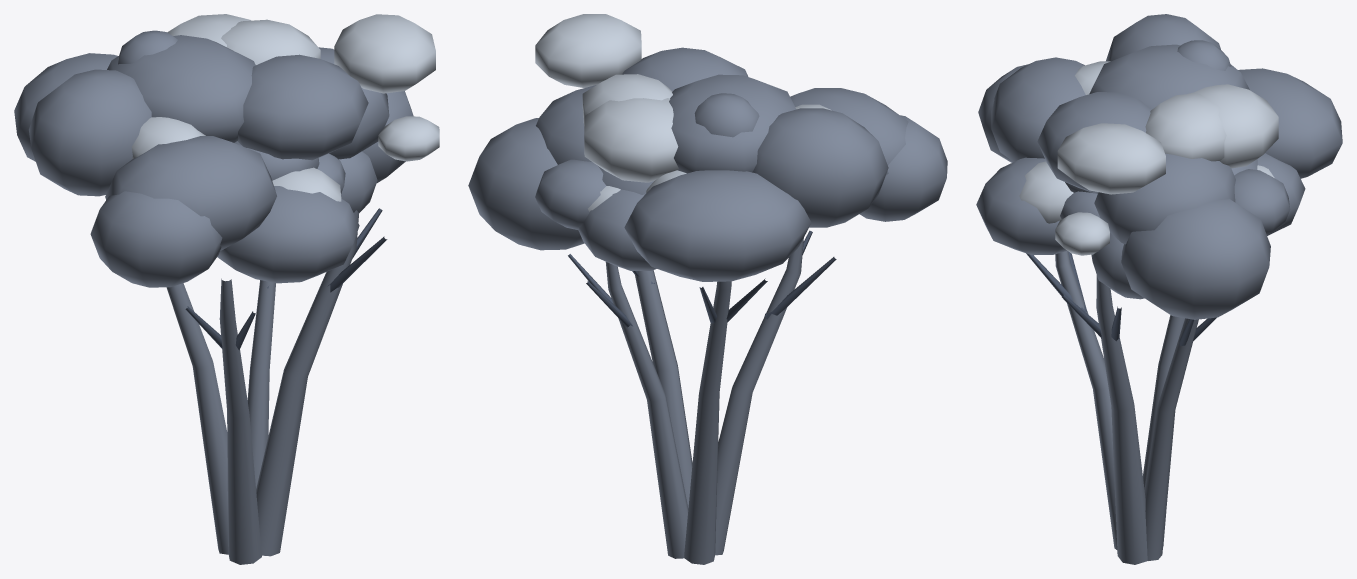
Rendered from 多干小乔木.glb.
3 renders of one model, left to right at view 1: azimuth 30°, elevation 25°; view 2: azimuth 150°, elevation 25°; view 3: azimuth 270°, elevation 25°, orthographic. The views are drawn at different scales.
Parts seen in each view (by area): view 1: garden-tree-multistem-leaf, garden-tree-multistem-trunk, garden-tree-multistem-light, garden-tree-multistem-branch; view 2: garden-tree-multistem-leaf, garden-tree-multistem-trunk, garden-tree-multistem-light, garden-tree-multistem-branch; view 3: garden-tree-multistem-leaf, garden-tree-multistem-light, garden-tree-multistem-trunk, garden-tree-multistem-branch.
Part boxes in pixels (x1,y1,x2,y2): garden-tree-multistem-leaf: (14,30,413,287); garden-tree-multistem-trunk: (166,210,358,564); garden-tree-multistem-light: (131,14,439,201); garden-tree-multistem-branch: (185,208,387,350); garden-tree-multistem-leaf: (468,47,947,281); garden-tree-multistem-trunk: (605,238,803,564); garden-tree-multistem-light: (535,14,831,211); garden-tree-multistem-branch: (568,230,836,327); garden-tree-multistem-leaf: (976,14,1342,319); garden-tree-multistem-light: (1019,61,1278,255); garden-tree-multistem-trunk: (1055,250,1198,564); garden-tree-multistem-branch: (1026,251,1216,346).
Bounding box in the file's own units: 2.1 × 2.6 × 1.8.
